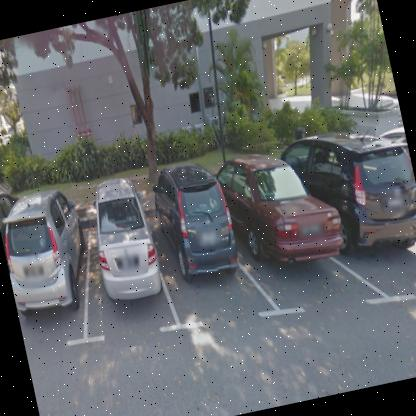Car: (209, 114, 356, 289), (276, 99, 416, 262), (148, 141, 258, 303), (0, 173, 95, 314), (78, 164, 166, 306)
